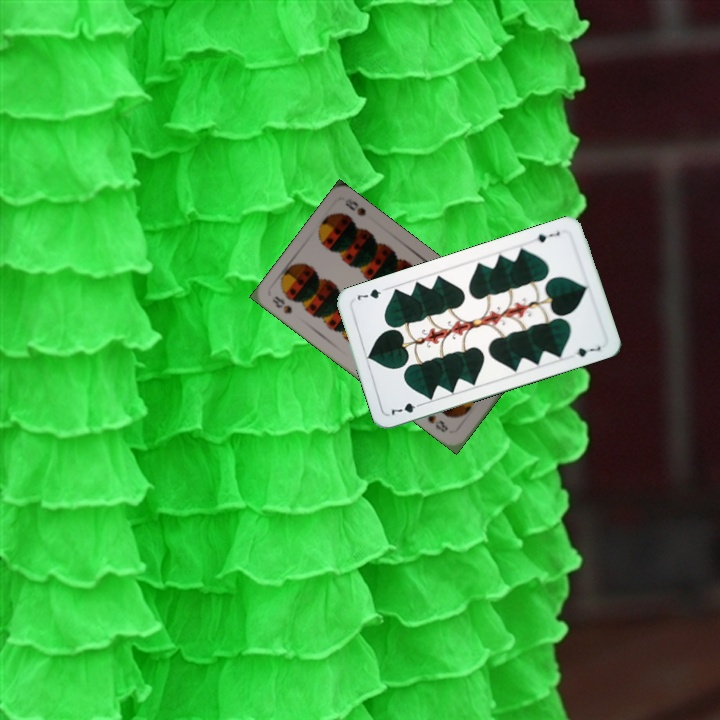G7: (386, 399, 426, 418), (533, 227, 562, 245)
S8: (268, 292, 295, 316)
